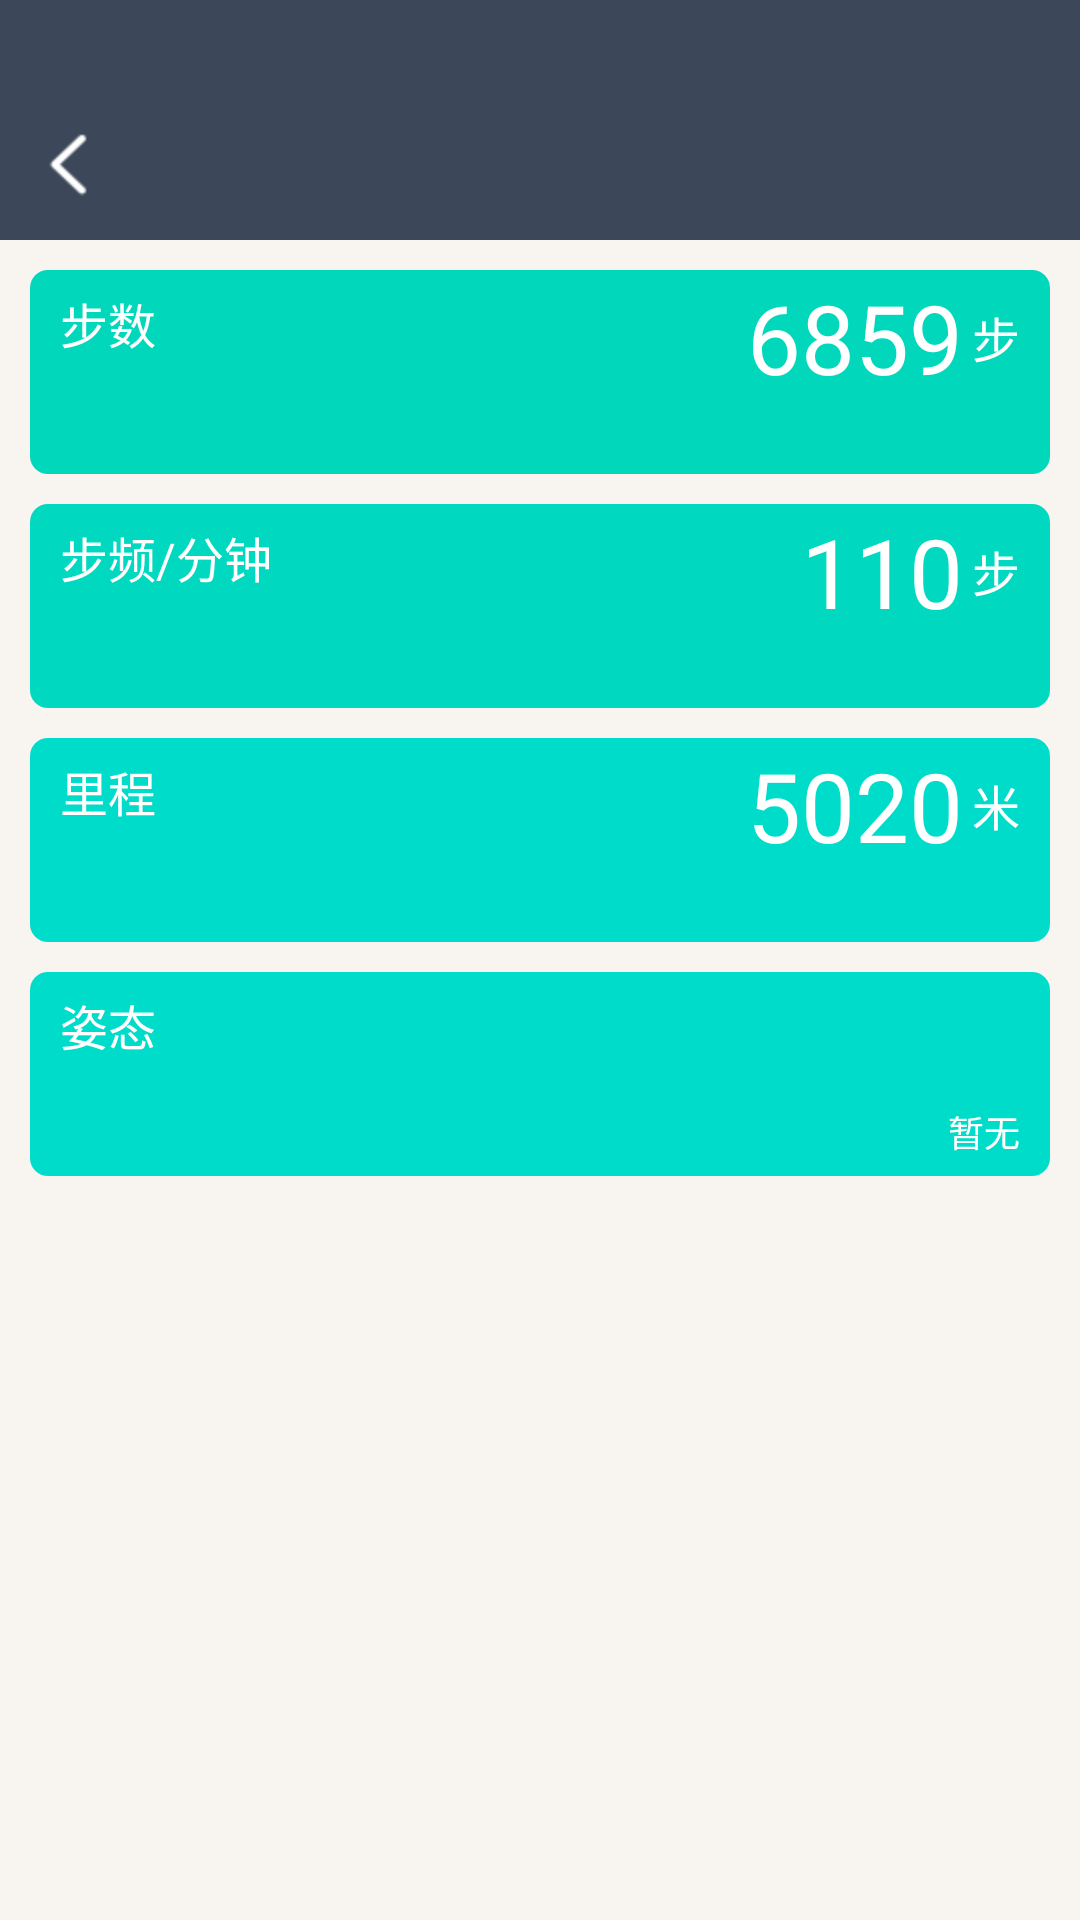

Point at icon controls on the screen. Image size 1080×1920, points as (x,y).
back: (68,164)
